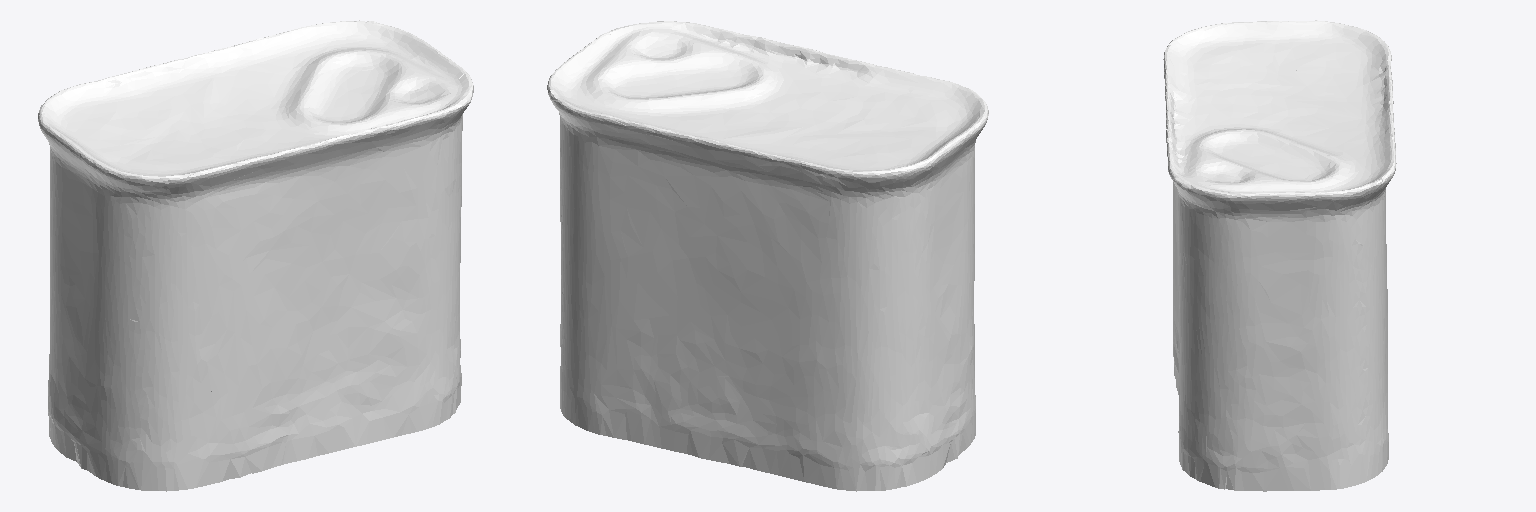
URDF robot description (95_spam_0):
<?xml version='1.0' encoding='utf-8'?>
<robot name="95_spam_0">
        <link name="link_0">
            <visual>
                <origin xyz="0.0 0.0 0.0" rpy="0.0 0.0 0.0" />
                <geometry>
                    <mesh filename="textured_objs/textured.obj" scale="1 1 1.0" />
                </geometry>
                <material name="white">
                    <color rgba="1 1 1 1" />
                </material>
            </visual>
            <collision>
                <origin xyz="0.0 0.0 0.0" rpy="0.0 0.0 0.0" />
                <geometry>
                    <mesh filename="textured_objs/textured.obj" scale="1 1 1.0" />
                </geometry>
            </collision>
            <inertial>
                <mass value="0.1" />
                <inertia ixx="0.0001" ixy="0.0" ixz="0.0" iyy="0.0001" iyz="0.0" izz="0.0001" />
            </inertial>
        </link>
    </robot>

--- What the picture shows (computed from the rendered views, not written in the file) ---
The picture shows the robot from 3 angles, left to right: view 1: azimuth 30°, elevation 25°; view 2: azimuth 150°, elevation 25°; view 3: azimuth 270°, elevation 25°; orthographic projection.
Model 95_spam_0 with 1 links and 0 joints (none), rooted at link_0, posed every joint at zero.
Links seen in each view (by area): view 1: link_0; view 2: link_0; view 3: link_0.
Boxes of the visible links, x1,y1,x2,y2 form: link_0: (38, 20, 473, 491); link_0: (547, 21, 988, 491); link_0: (1163, 20, 1396, 491).
Bounding box of the posed robot: 0.1006 × 0.0572 × 0.0822 m (x, y, z).
1 mesh visuals loaded from 1 distinct referenced files (1 OBJ).